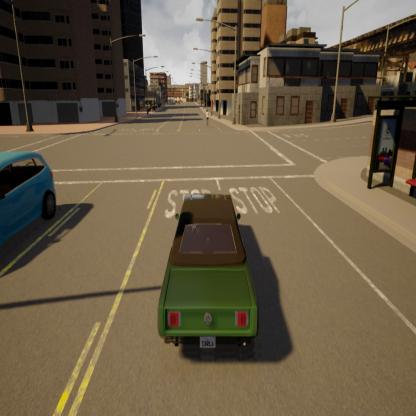Cars: (151, 180, 263, 365), (0, 129, 66, 267)
